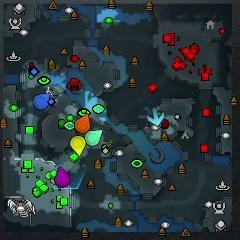p1: (34, 93, 49, 108)
p2: (86, 129, 103, 146)
p3: (55, 167, 70, 187)
p4: (70, 136, 86, 156)
p5: (75, 113, 91, 134)
x3: (147, 108, 165, 126)
